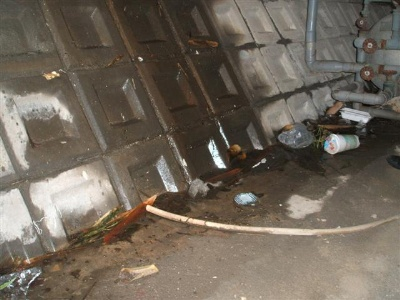bottle: (324, 133, 360, 155)
box: (340, 107, 372, 124)
plastic_bag: (277, 123, 314, 149)
